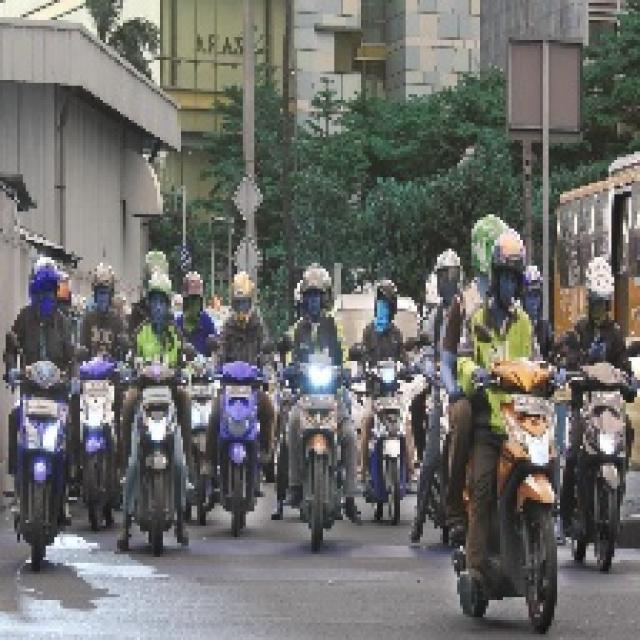bike: (494, 353, 574, 640), (570, 350, 640, 564), (290, 340, 356, 556), (122, 336, 184, 561), (10, 362, 70, 566), (214, 336, 268, 544), (360, 344, 410, 530), (184, 340, 224, 540), (78, 336, 120, 526)
